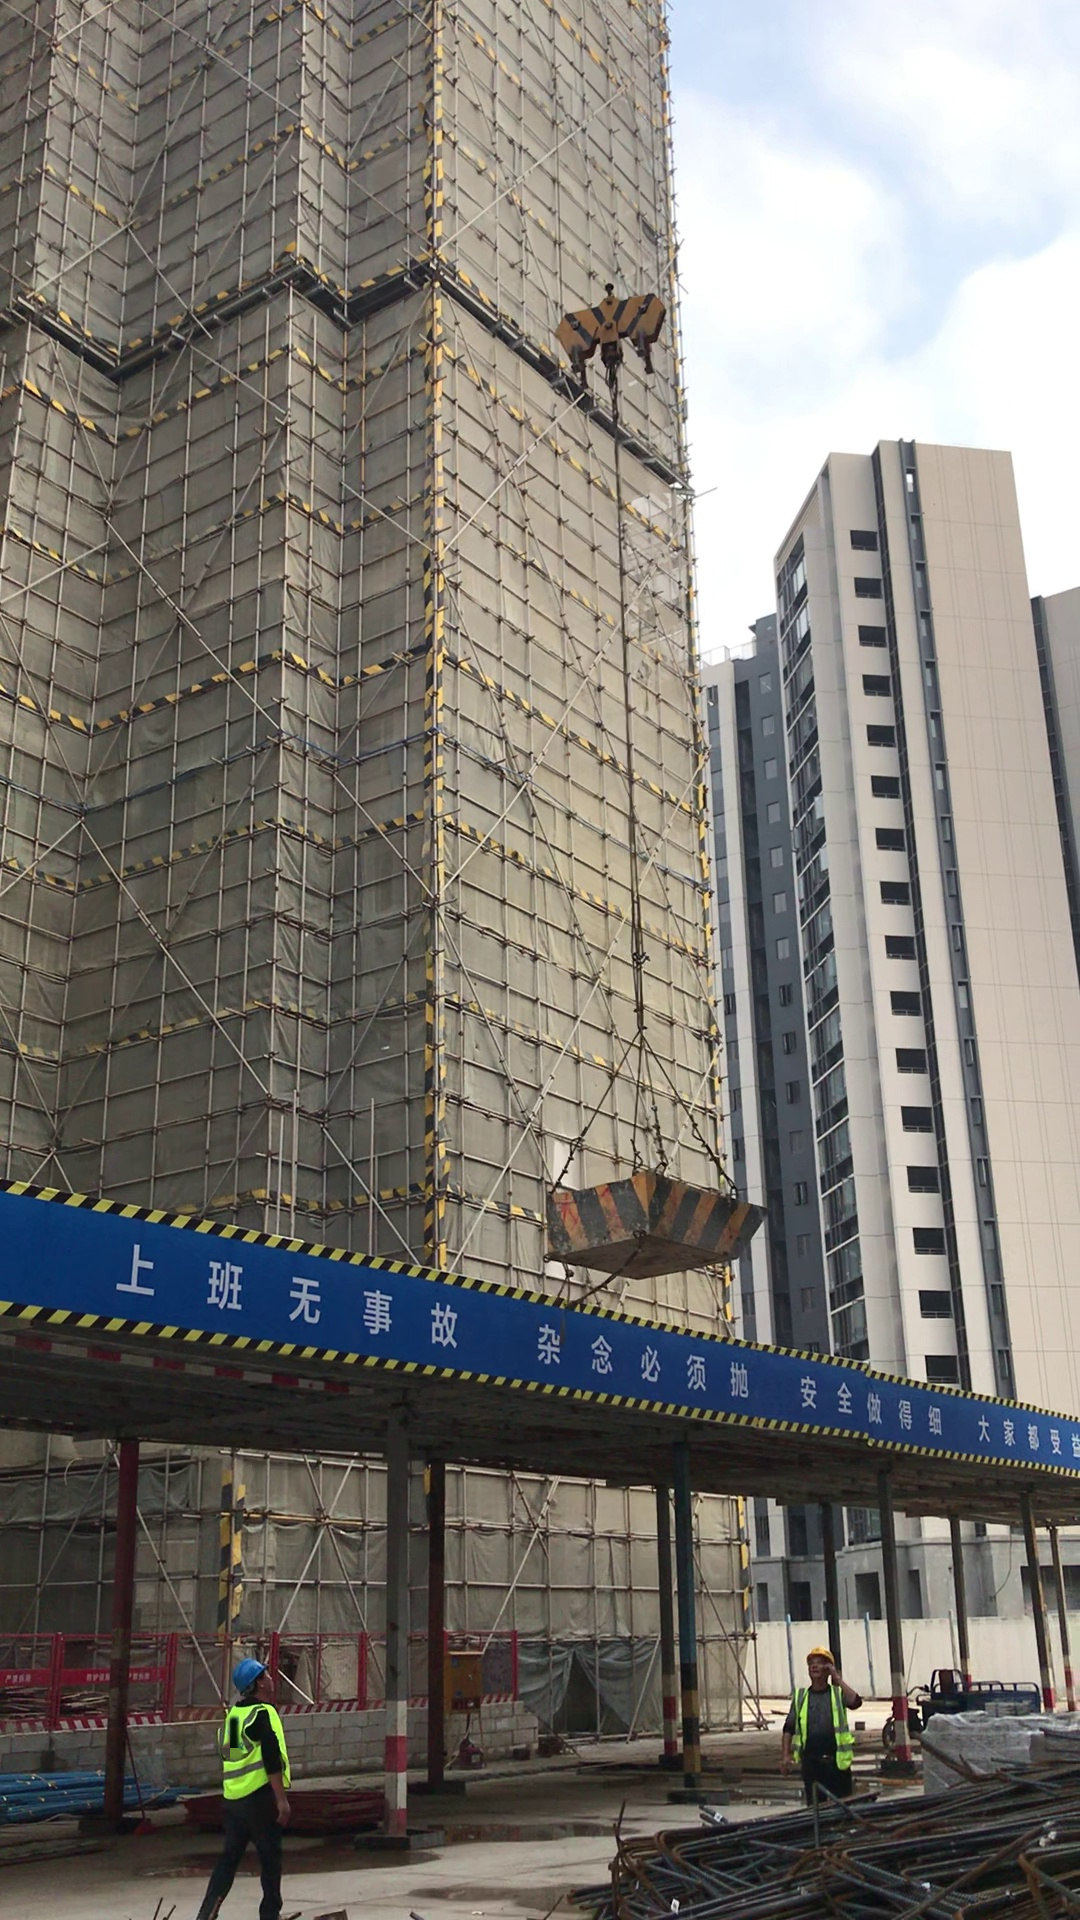ebox: (443, 1645, 489, 1763)
fence: (1, 1631, 516, 1735)
helmet: (231, 1655, 269, 1694), (803, 1643, 840, 1664)
hook: (549, 276, 680, 372)
hopper: (545, 1161, 770, 1278)
person: (192, 1655, 331, 1906), (767, 1639, 883, 1806)
slogan: (18, 1190, 1080, 1482)
vest: (216, 1705, 290, 1794), (789, 1683, 856, 1770)
